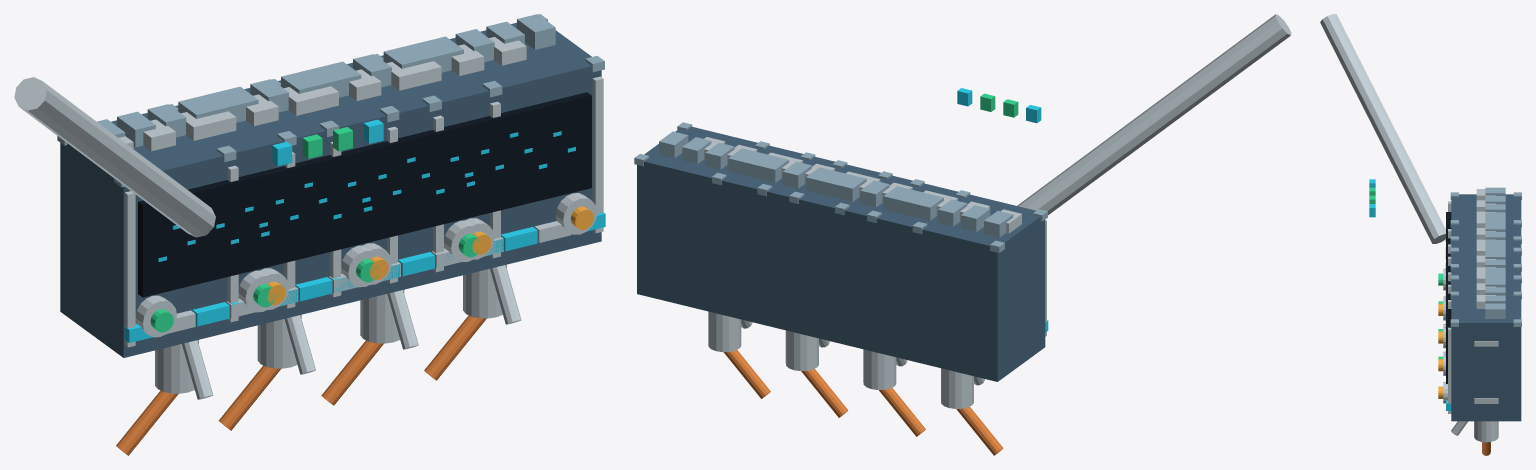
Rendered from 36_L78_LowKGasFlowController.fbx.
3 views of the same model, side by side, from view 1: azimuth 30°, elevation 25°; view 2: azimuth 150°, elevation 25°; view 3: azimuth 270°, elevation 25° (orthographic). The views are drawn at different scales.
Parts seen in each view (by area): view 1: LowKGasFlowController; view 2: LowKGasFlowController; view 3: LowKGasFlowController.
Boxes of the visible parts, <box> form: LowKGasFlowController: <box>14,14,605,455</box>; LowKGasFlowController: <box>634,14,1291,455</box>; LowKGasFlowController: <box>1320,14,1521,455</box>.
Bounding box in the file's own units: 183 × 135 × 83.22.
